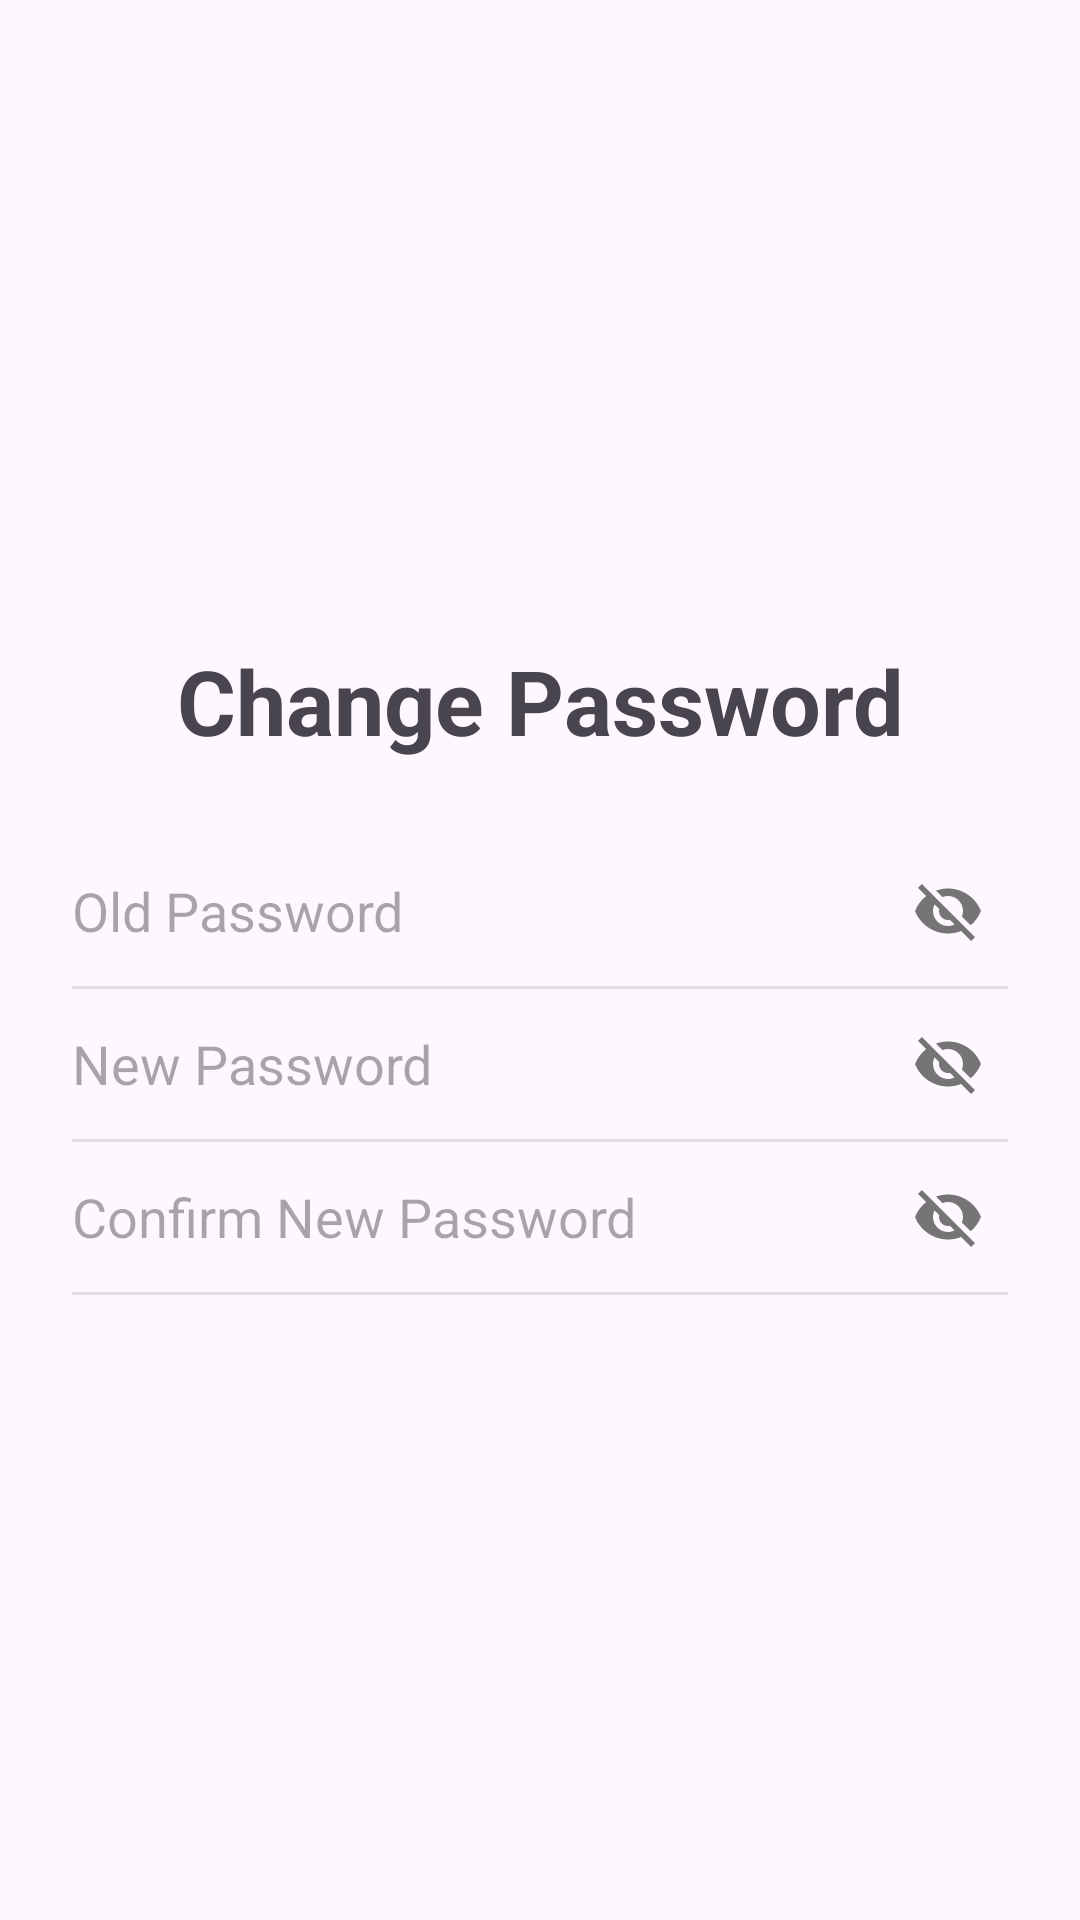

Screen size 1080x1920. Icon name, then its center in pixels as (x,y):
Toggle Password Visibility: (948,912), (948,1065), (948,1218)
